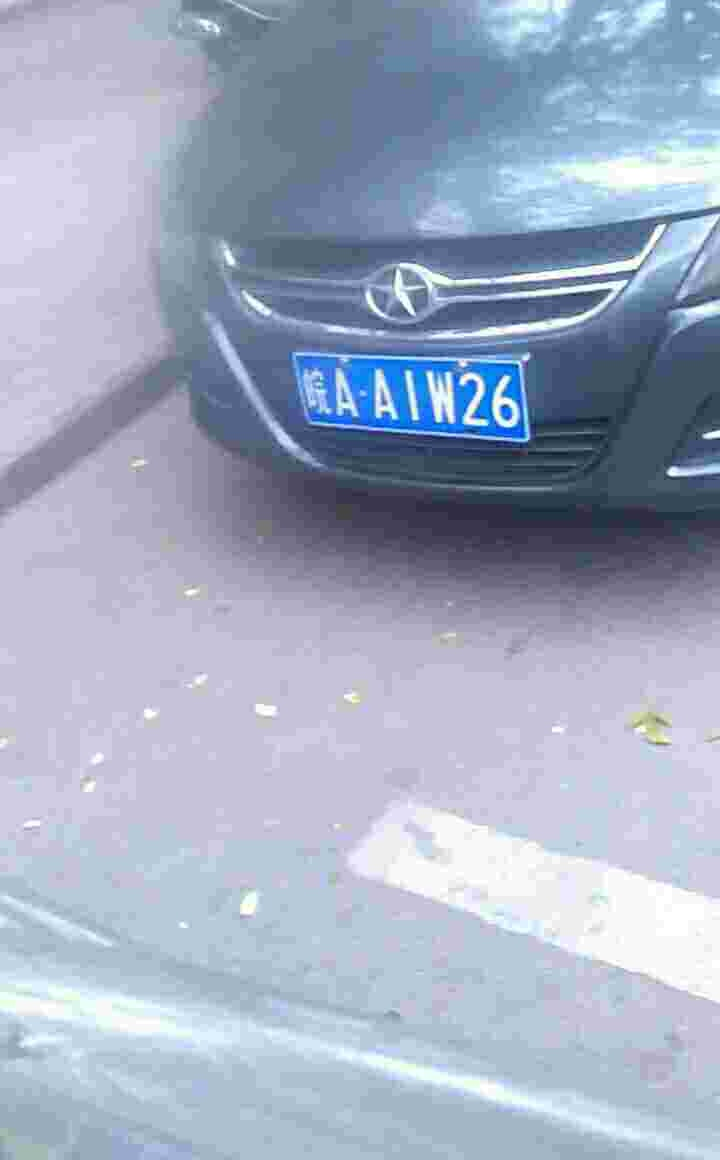license_plate: (285, 346, 524, 437)
